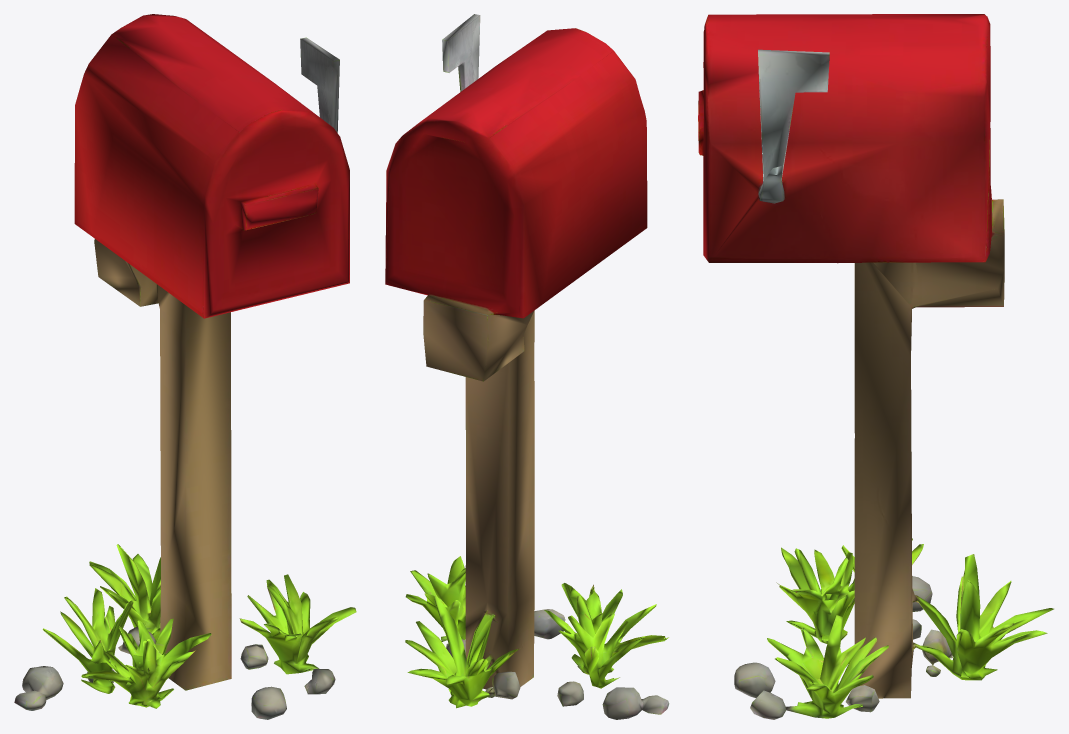
The model's file is mailbox.glb.
3 renders of one model, left to right at view 1: azimuth 30°, elevation 25°; view 2: azimuth 150°, elevation 25°; view 3: azimuth 270°, elevation 25°, orthographic. The views are drawn at different scales.
Parts seen in each view (by area): view 1: Mesh1.0; view 2: Mesh1.0; view 3: Mesh1.0.
Part boxes in pixels (x1,y1,x2,y2): Mesh1.0: [14, 14, 356, 719]; Mesh1.0: [385, 14, 669, 719]; Mesh1.0: [698, 14, 1053, 719].
Size of the model in its own units: 0.4988 by 1 by 0.476.
1 material, 1 textured.
